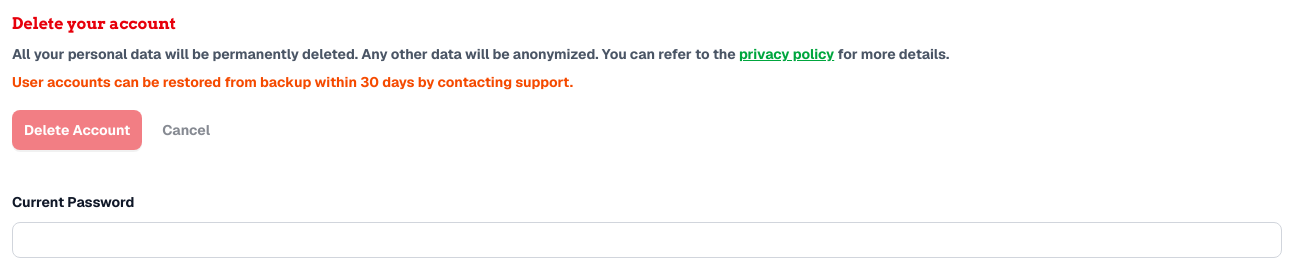
Test case: DeleteAccountForm › resets the form when cancel is clicked
Step 1. Type "Password123!" into the password field labelled "Current Password" → coordinates (647, 240), box [12,222,1282,258]
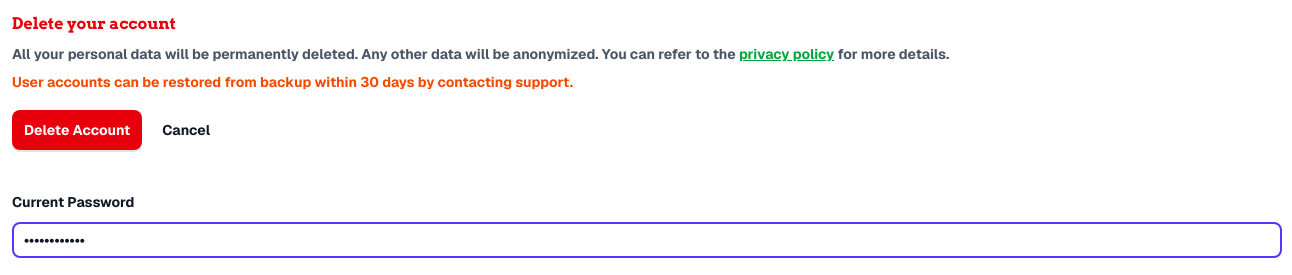
Expected: the button "Delete Account" is enabled, [12,110,142,150]
Step 2. Click the button "Cancel" → coordinates (186, 130), box [150,110,222,150]
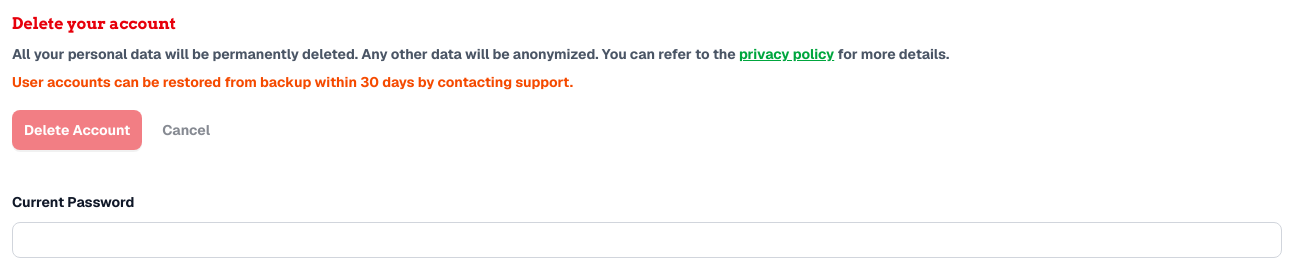
Expected: the password field labelled "Current Password" is empty, [12,222,1282,258]
Expected: the button "Delete Account" is disabled, [12,110,142,150]
